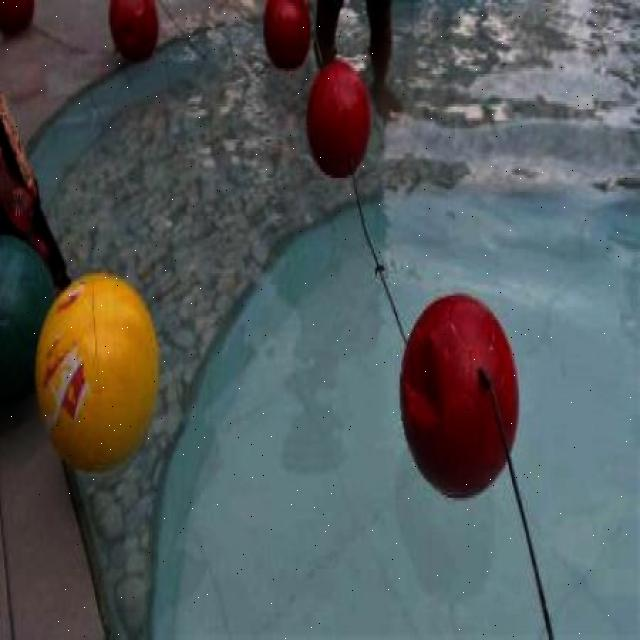buoy: (398, 294, 519, 500), (33, 273, 158, 472), (0, 234, 58, 406), (306, 59, 368, 176), (261, 1, 311, 70), (106, 0, 156, 60)
